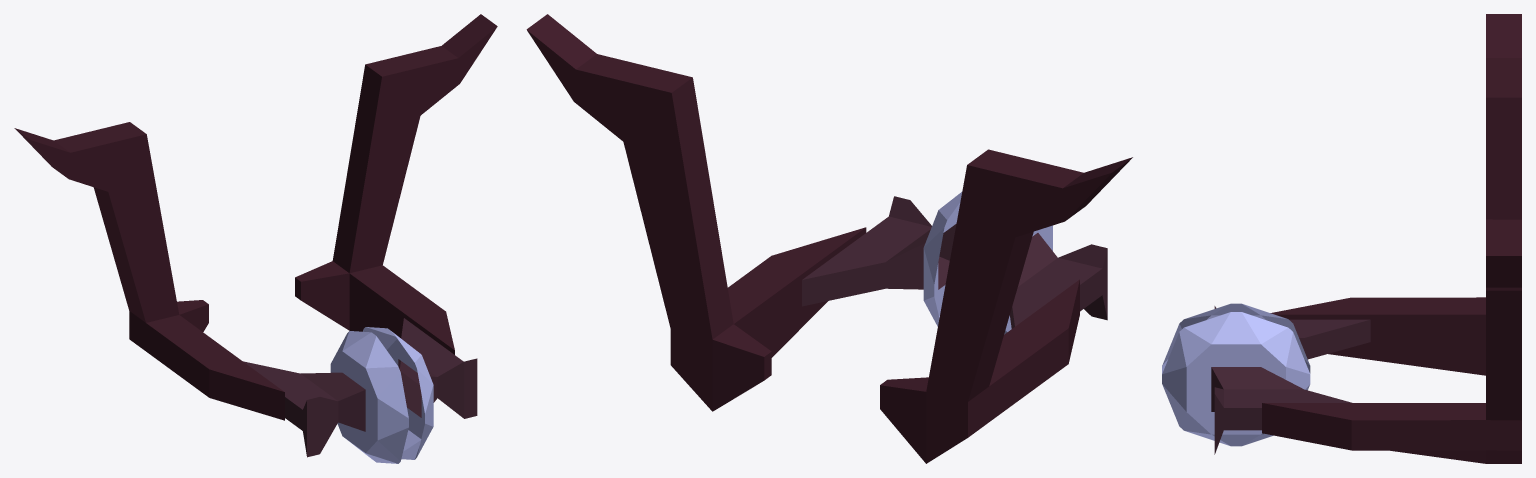
Rendered from Greasley_Arms.fbx.
3 renders of one model, left to right at view 1: azimuth 30°, elevation 25°; view 2: azimuth 150°, elevation 25°; view 3: azimuth 270°, elevation 25°, orthographic. The views are drawn at different scales.
Visible parts, largest first — view 1: Arms; view 2: Arms; view 3: Arms.
Part boxes in pixels (left/top/right/bottom): Arms: left=14, top=14, right=497, bottom=463; Arms: left=526, top=14, right=1132, bottom=463; Arms: left=1162, top=14, right=1521, bottom=463.
Bounding box in the file's own units: 431 × 255 × 271.
